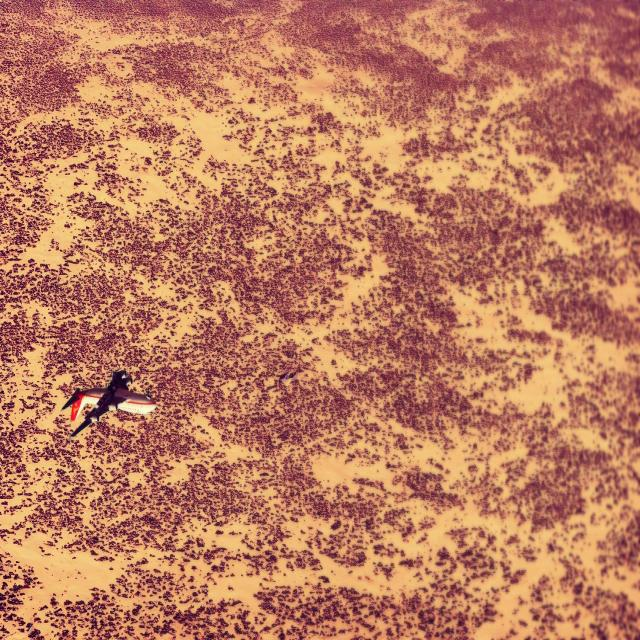airplane: (60, 368, 156, 439)
